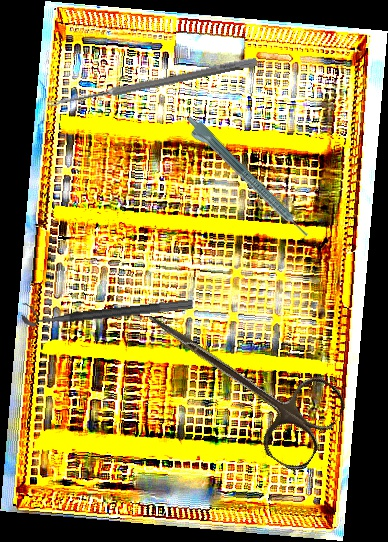Fixation Ring: (20, 285, 193, 328)
Handpiece: (180, 113, 311, 245)
Iris Scissors: (121, 281, 352, 477)
Surgical Spoon: (46, 55, 258, 111)
